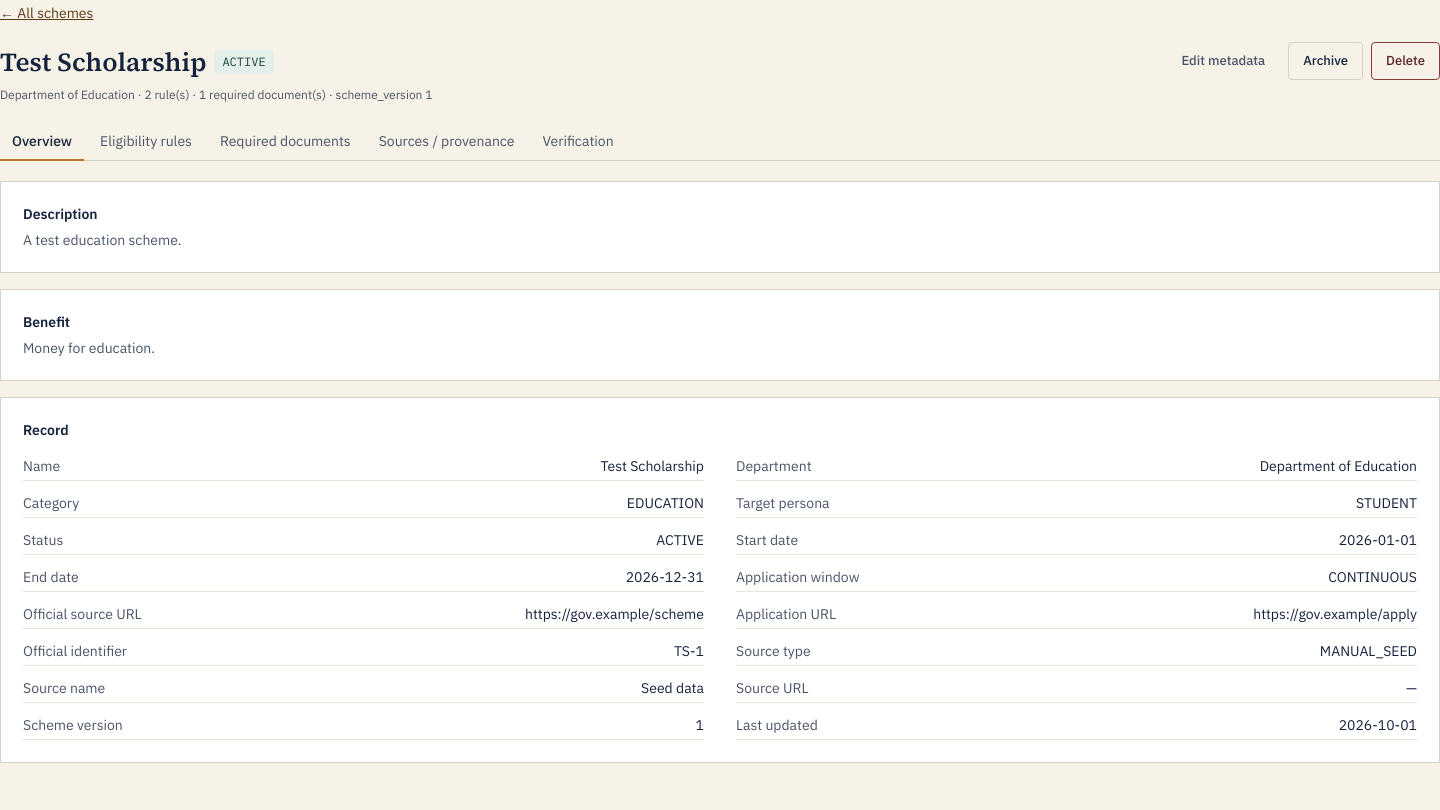
Test: archive / restore / delete › warns that delete is permanent and surfaces the 409 protection verbatim
This screenshot has width=1440, height=810.
Expected: the heading "Test Scholarship" is shown, x1=0 y1=42 x2=206 y2=83
Click the button "Delete" at (1406, 61), box x1=1371 y1=42 x2=1439 y2=80
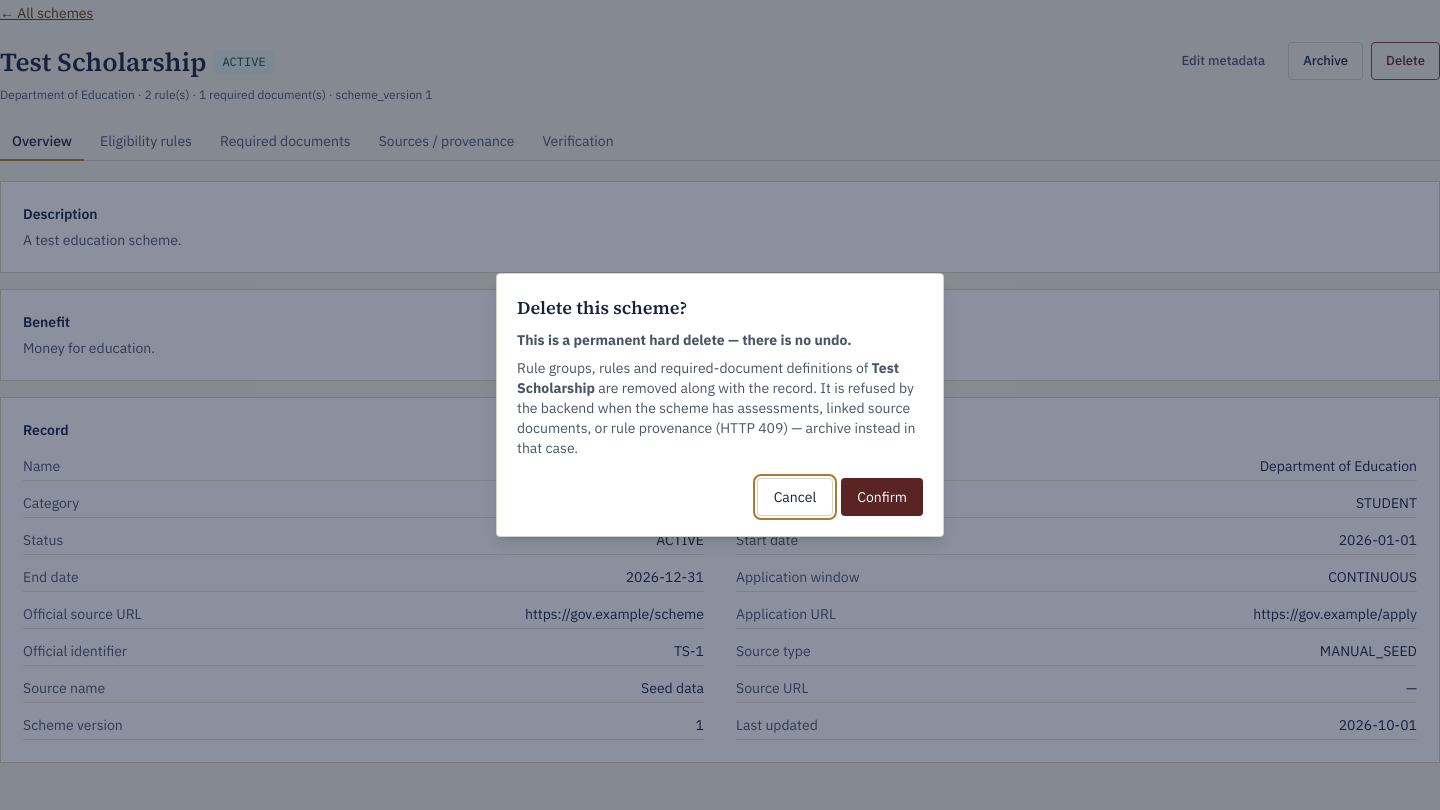
Now the text "This is a permanent hard delete — there is no undo." is shown, box x1=517 y1=331 x2=852 y2=349
Click the button "Confirm" at (882, 497), box x1=841 y1=478 x2=923 y2=516
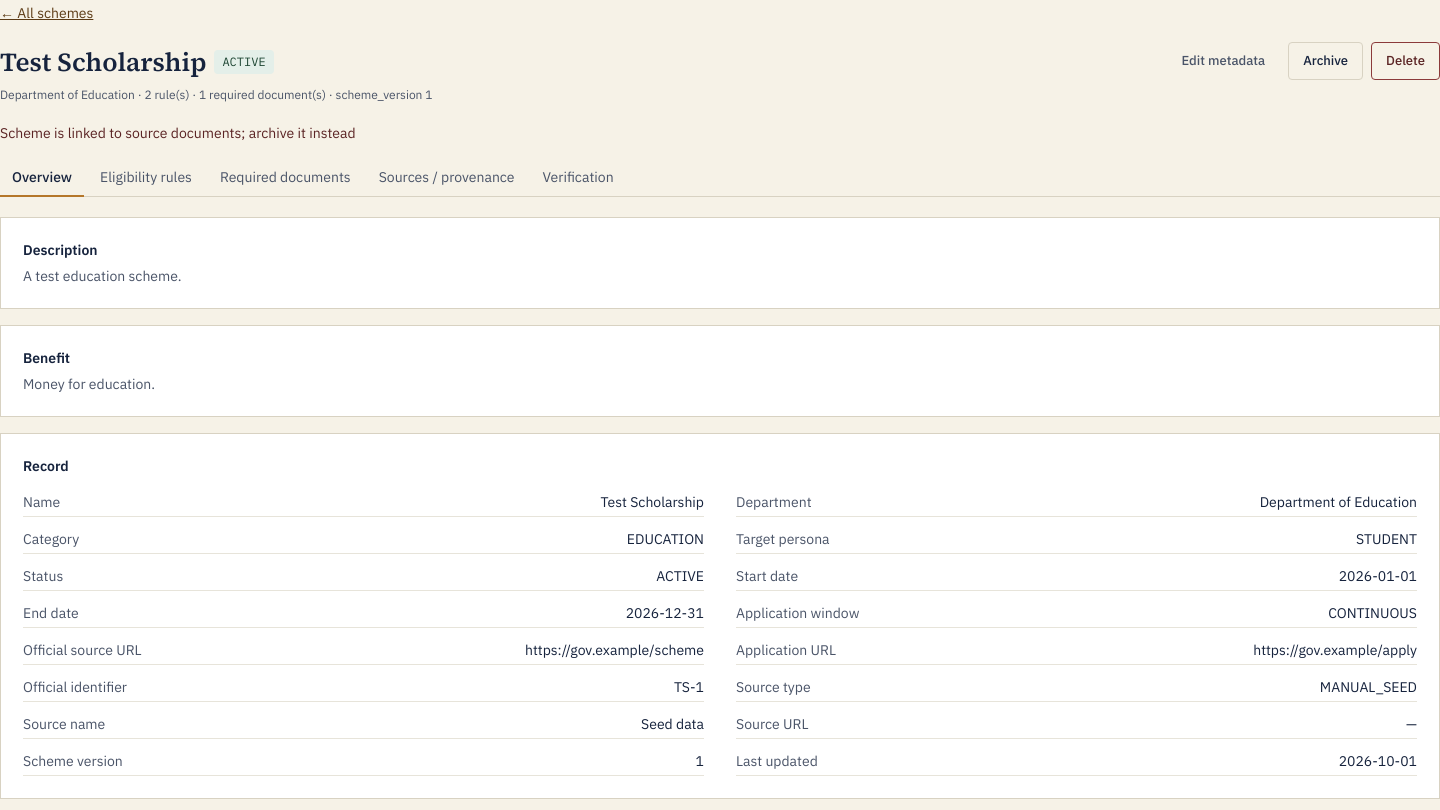
Now the text "Scheme is linked to source documents; archive it instead" is shown, box x1=0 y1=124 x2=356 y2=142
Now the text "permanent hard delete" is gone
